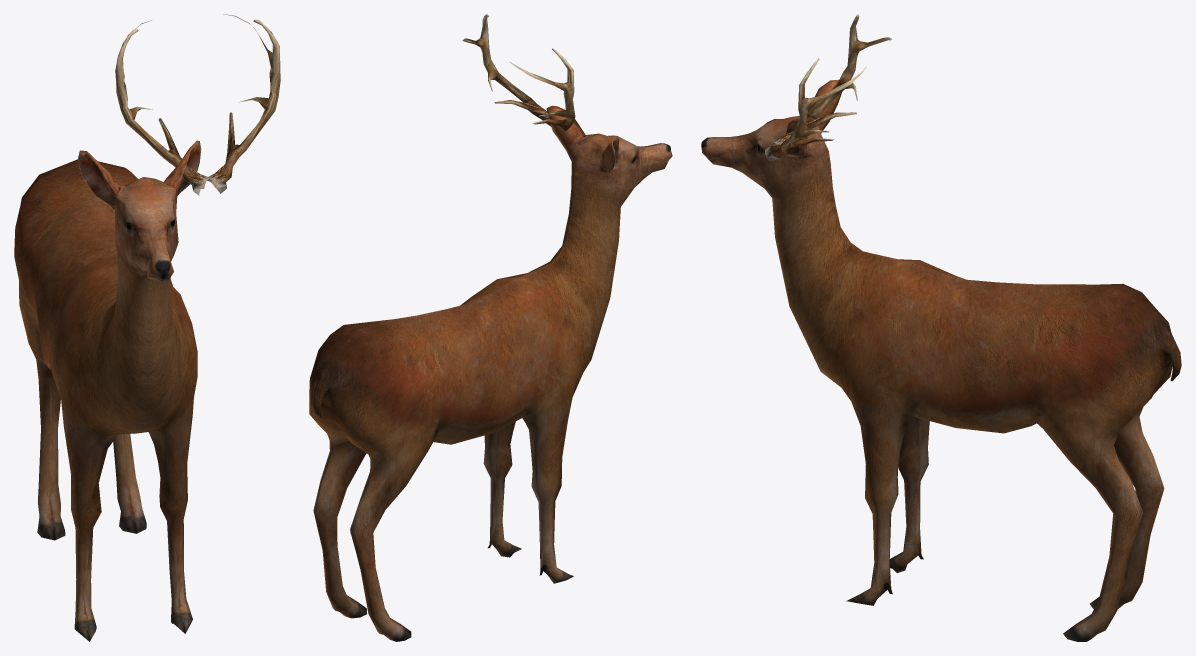
File: deer.obj
The picture shows the model from 3 angles, left to right: view 1: azimuth 30°, elevation 25°; view 2: azimuth 150°, elevation 25°; view 3: azimuth 270°, elevation 25°; orthographic projection. The views are drawn at different scales.
Parts seen in each view (by area): view 1: _000_Deer, _001_Deer; view 2: _000_Deer, _001_Deer; view 3: _000_Deer, _001_Deer.
Boxes of the visible parts, x1=… form: _000_Deer: x1=14, y1=140, x2=201, y2=641; _001_Deer: x1=115, y1=14, x2=280, y2=195; _000_Deer: x1=309, y1=105, x2=672, y2=641; _001_Deer: x1=462, y1=14, x2=575, y2=131; _000_Deer: x1=701, y1=79, x2=1181, y2=641; _001_Deer: x1=765, y1=14, x2=892, y2=160.
Size of the model in its own units: 0.6835 by 1.91 by 1.46.
